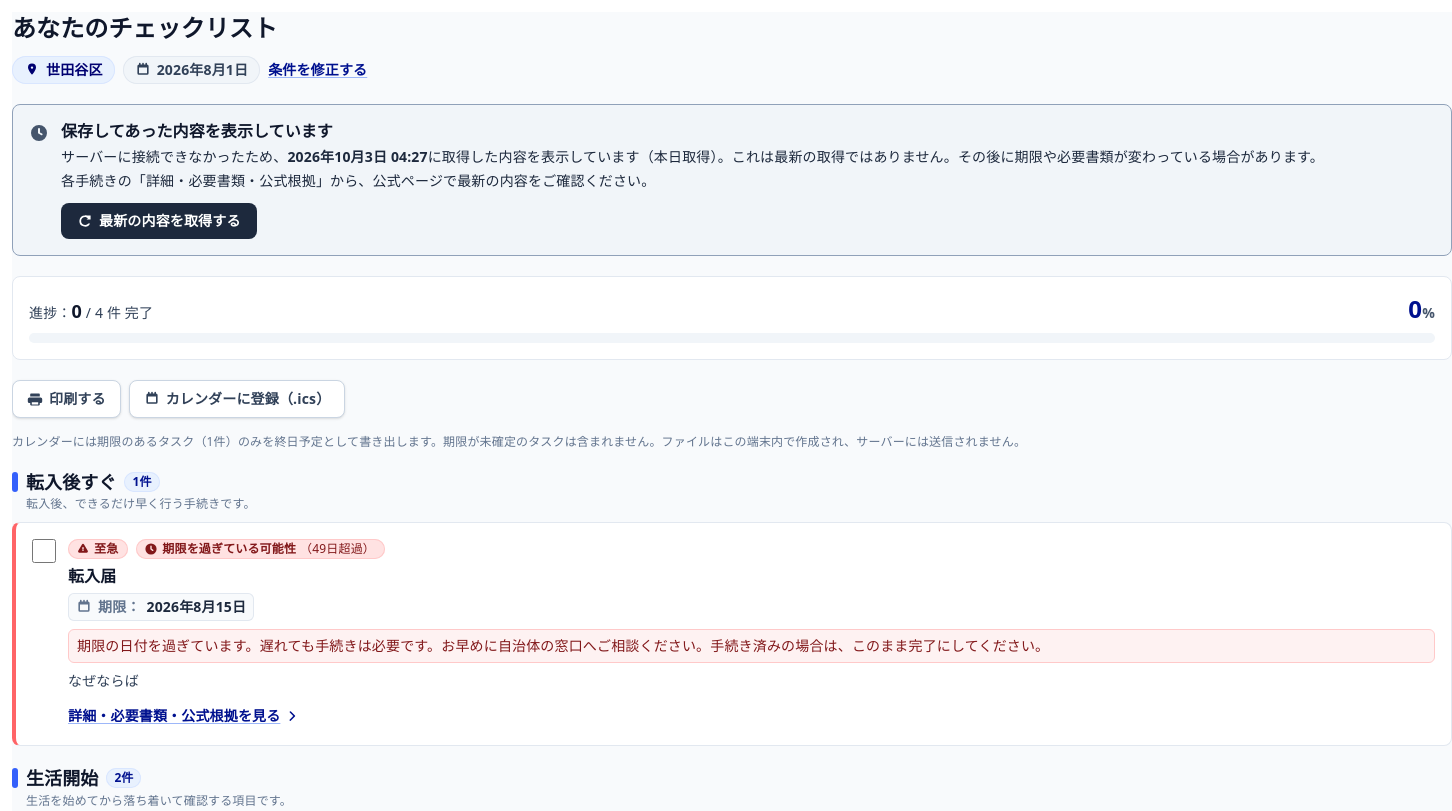
ChecklistPage — APIへ届かないとき › 再試行ボタンで取得し直し、成功したら控えの告知が消える
This screenshot has width=1452, height=811.
Expected: the text "転入届" is shown, [68,565,116,587]
Expected: the heading "保存してあった内容を表示しています" is shown, [61,120,333,142]
Click the button "最新の内容を取得する" at (159, 221), box [61,203,257,239]
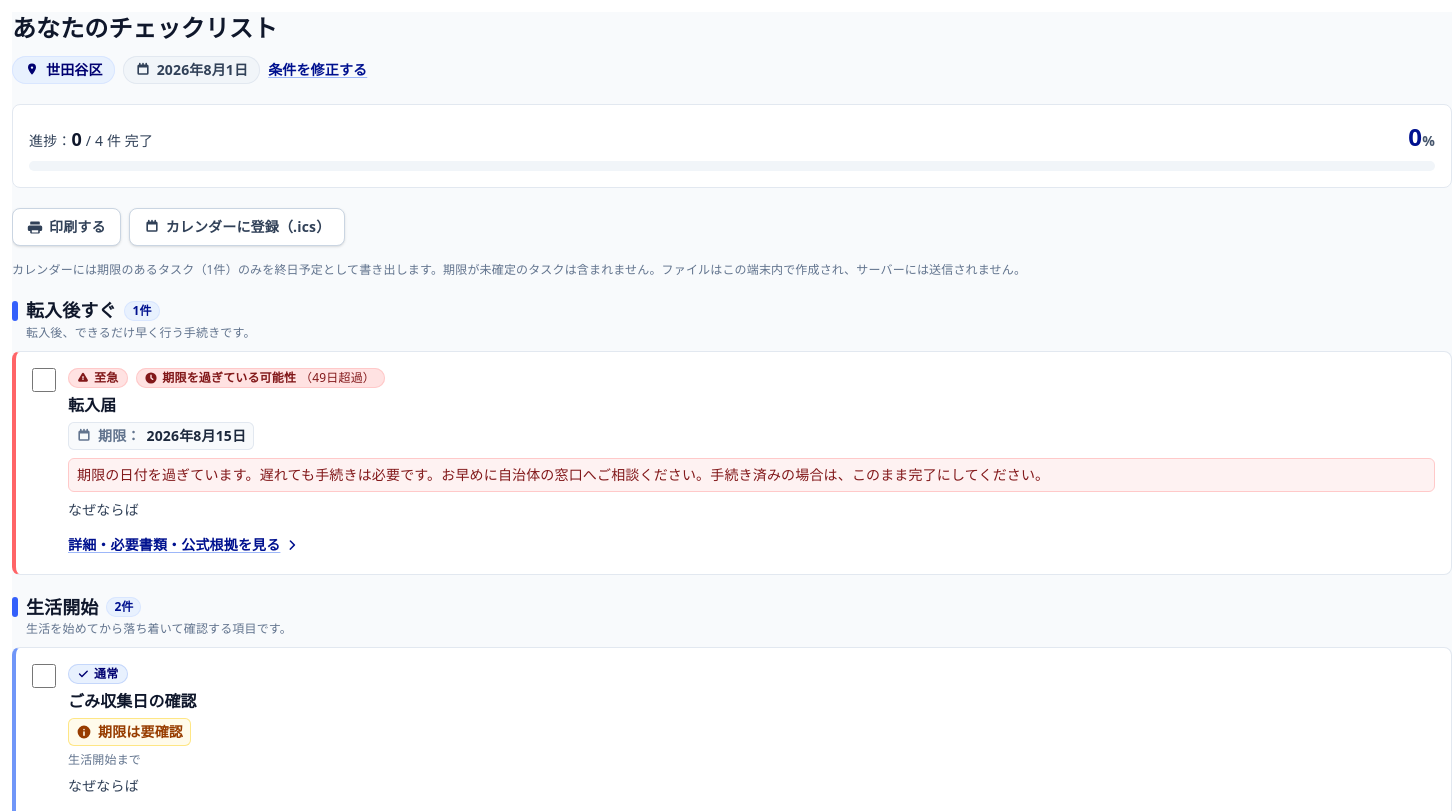
Expected: the text "転入届" is shown, [68,394,116,416]
Expected: the heading "保存してあった内容を表示しています" is gone
